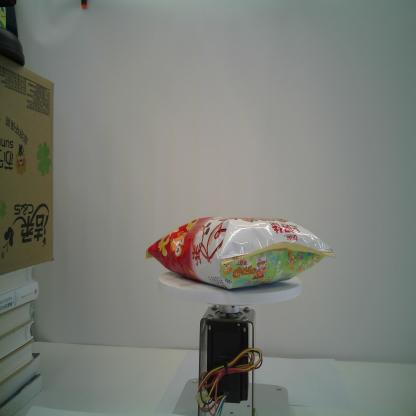Puffed Food: (146, 216, 336, 290)
